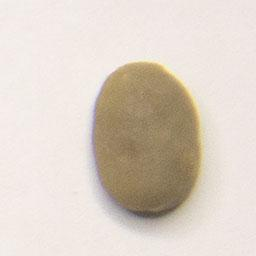premium: (88, 58, 206, 217)
